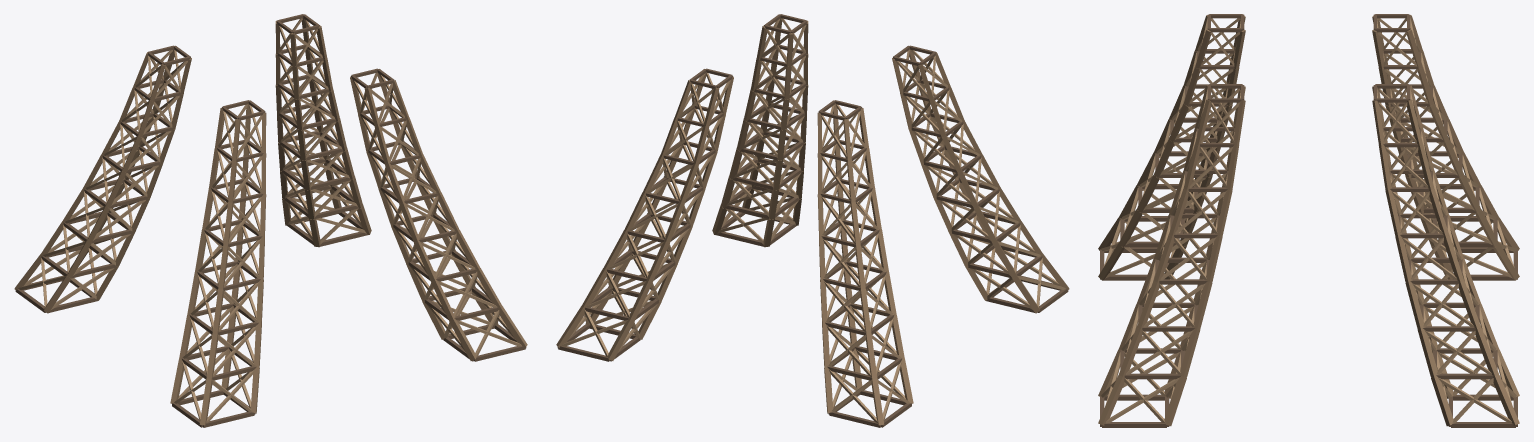
File: 05_legs_mid.glb
The picture shows the model from 3 angles, left to right: view 1: azimuth 30°, elevation 25°; view 2: azimuth 150°, elevation 25°; view 3: azimuth 270°, elevation 25°; orthographic projection. The views are drawn at different scales.
Visible parts, largest first — view 1: legs_mid_ironlight, legs_mid_iron, legs_mid_irondark; view 2: legs_mid_ironlight, legs_mid_iron, legs_mid_irondark; view 3: legs_mid_iron, legs_mid_ironlight, legs_mid_irondark.
Part boxes in pixels (x1,y1,x2,y2): legs_mid_ironlight: (18,18,521,422); legs_mid_iron: (14,18,527,425); legs_mid_irondark: (15,14,526,427); legs_mid_ironlight: (562,18,1065,422); legs_mid_iron: (556,18,1069,425); legs_mid_irondark: (557,14,1068,427); legs_mid_iron: (1098,14,1519,426); legs_mid_ironlight: (1101,18,1516,423); legs_mid_irondark: (1100,14,1517,427).
Bounding box in the file's own units: 76.25 × 56.39 × 76.25.
